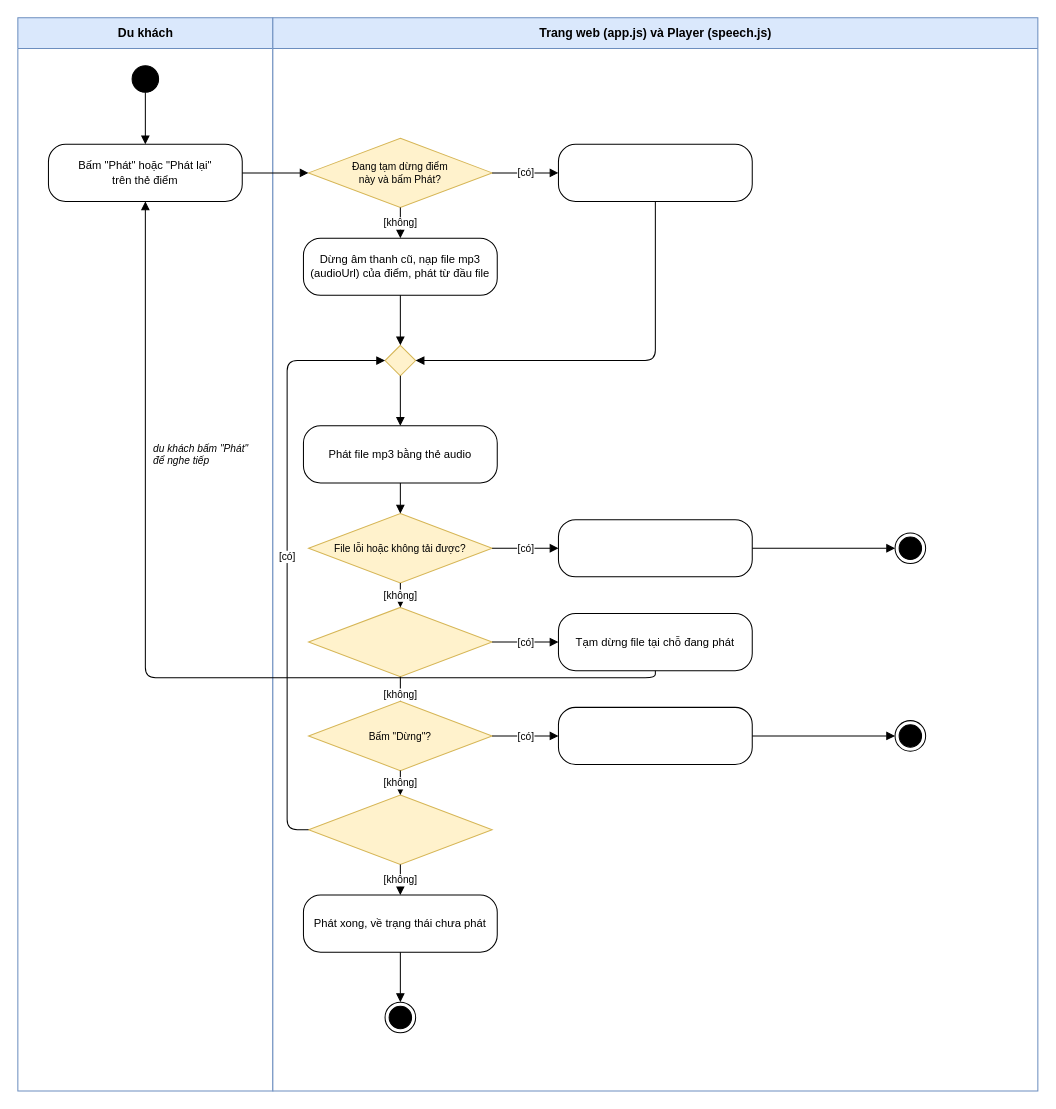
Image size: 1056x1109. Some labels were removed from this diagram. The shapes that lost their labels are listed below. From the top down, each one's centre as x and y in pixels, then its label:
pixel 654 172: Phát tiếp từ chỗ dừng
pixel 654 548: Đánh dấu điểm chỉ còn chữ, báo lỗi kèm mã
pixel 400 641: Bấm "Tạm dừng"?
pixel 654 735: Dừng, về trạng thái chưa phát
pixel 400 829: File còn chưa phát hết?
